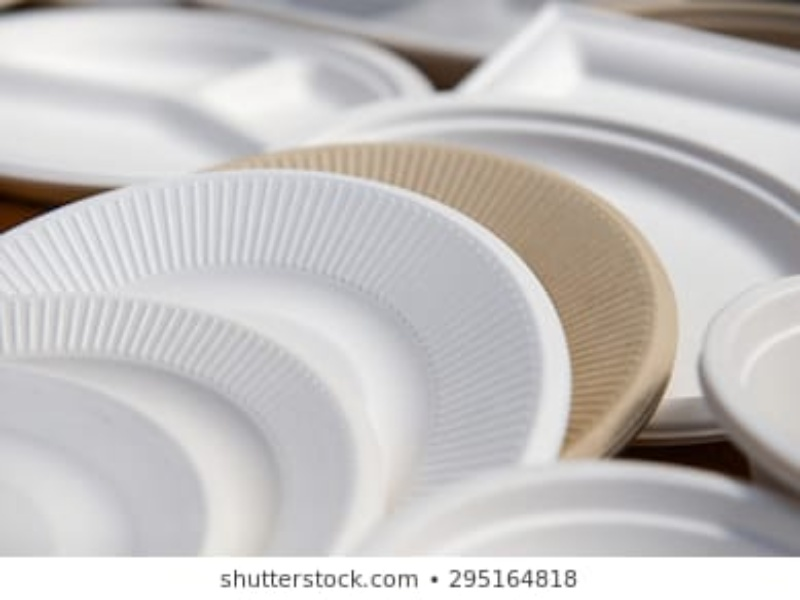plastic-plate: (1, 165, 572, 485), (282, 95, 800, 441), (211, 145, 678, 460), (1, 6, 438, 186), (344, 457, 799, 558), (1, 364, 211, 554), (705, 278, 800, 485)
